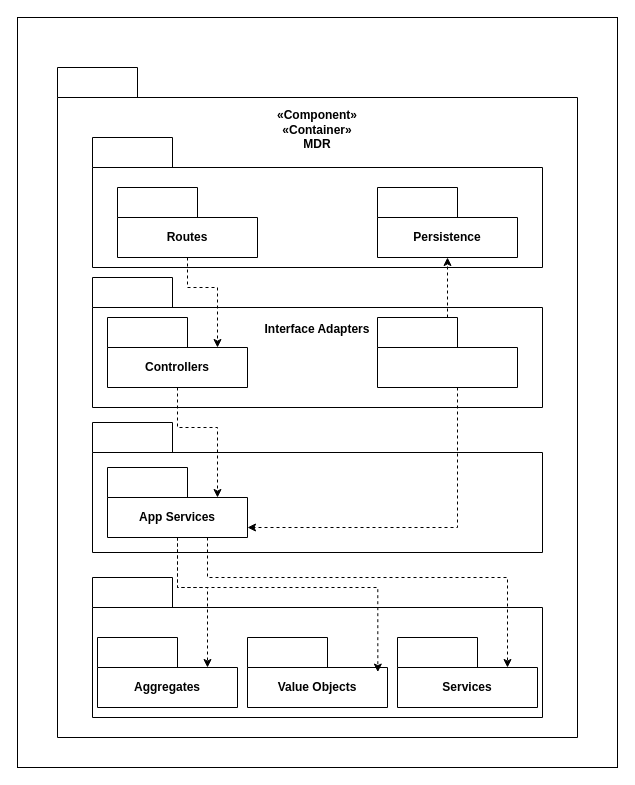
Some shapes in this 635 by 785 pixel diagram are drawn without their labels. Here are the shapes that lost their labels. From the top down, the box of each, then its label:
(92, 136, 542, 268): Infrastructure
(376, 316, 518, 388): Repositories
(92, 422, 542, 552): Application Services/Use Case Services
(92, 576, 542, 718): Entities/Core/Domain
